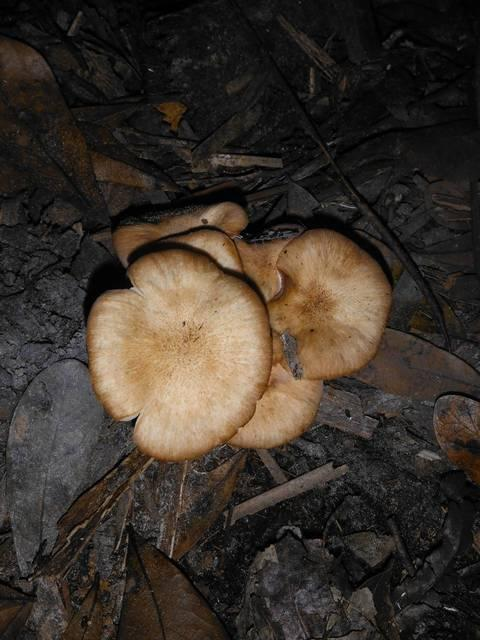Edible Mushroom: (84, 198, 393, 462)
